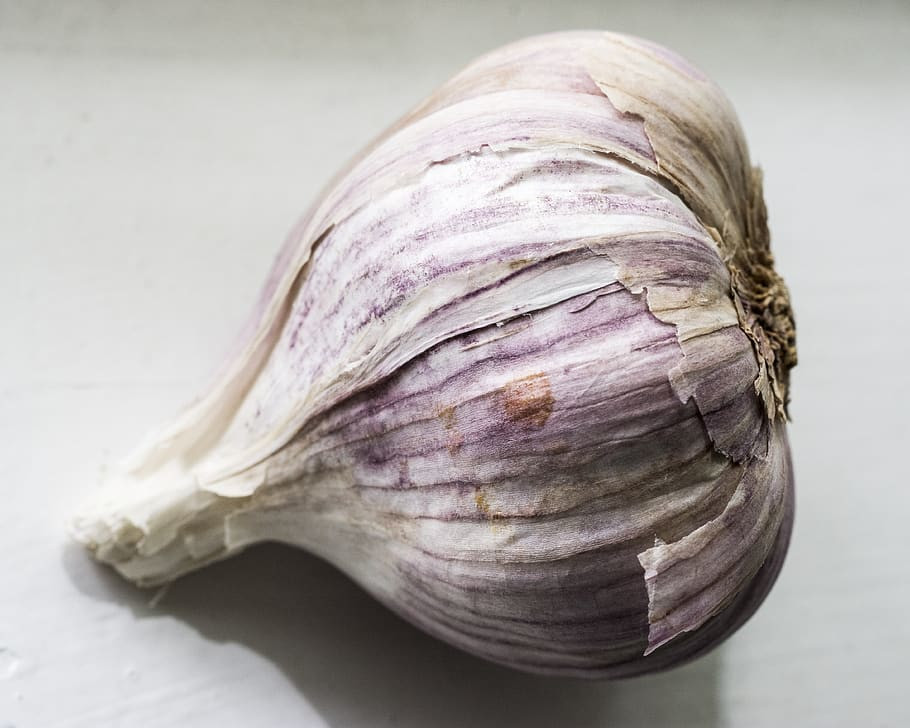garlic: (66, 25, 804, 687)
